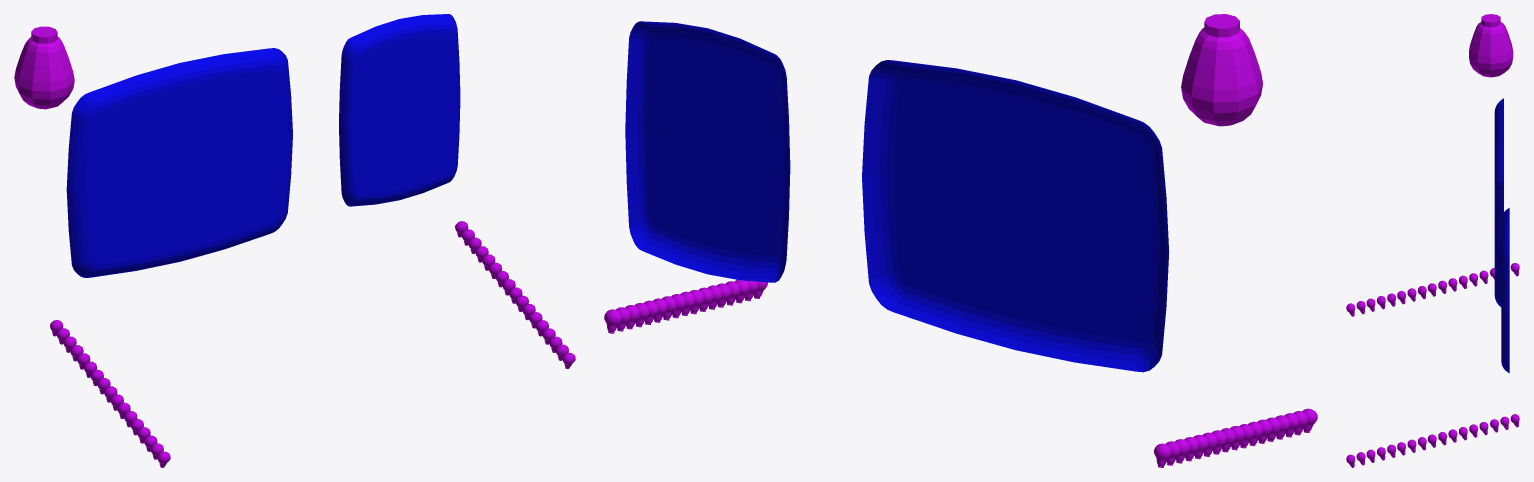
File: Screens_Lamps02.fbx
The picture shows the model from 3 angles, left to right: view 1: azimuth 30°, elevation 25°; view 2: azimuth 150°, elevation 25°; view 3: azimuth 270°, elevation 25°; orthographic projection. The views are drawn at different scales.
Parts seen in each view (by area): view 1: LX_TVLX_Screen, DX_TVDX_Screen, LampBig; view 2: LX_TVLX_Screen, DX_TVDX_Screen, LampBig; view 3: LampBig, LX_TVLX_Screen, DX_TVDX_Screen.
Part boxes in pixels (x1=…): LX_TVLX_Screen: x1=66, y1=48, x2=292, y2=277; DX_TVDX_Screen: x1=339, y1=14, x2=460, y2=206; LampBig: x1=14, y1=26, x2=74, y2=109; LX_TVLX_Screen: x1=862, y1=60, x2=1169, y2=372; DX_TVDX_Screen: x1=625, y1=21, x2=790, y2=282; LampBig: x1=1181, y1=14, x2=1262, y2=126; LampBig: x1=1469, y1=14, x2=1513, y2=77; LX_TVLX_Screen: x1=1494, y1=98, x2=1503, y2=306; DX_TVDX_Screen: x1=1501, y1=208, x2=1509, y2=373.
Bounding box in the file's own units: 254 × 196 × 107.
